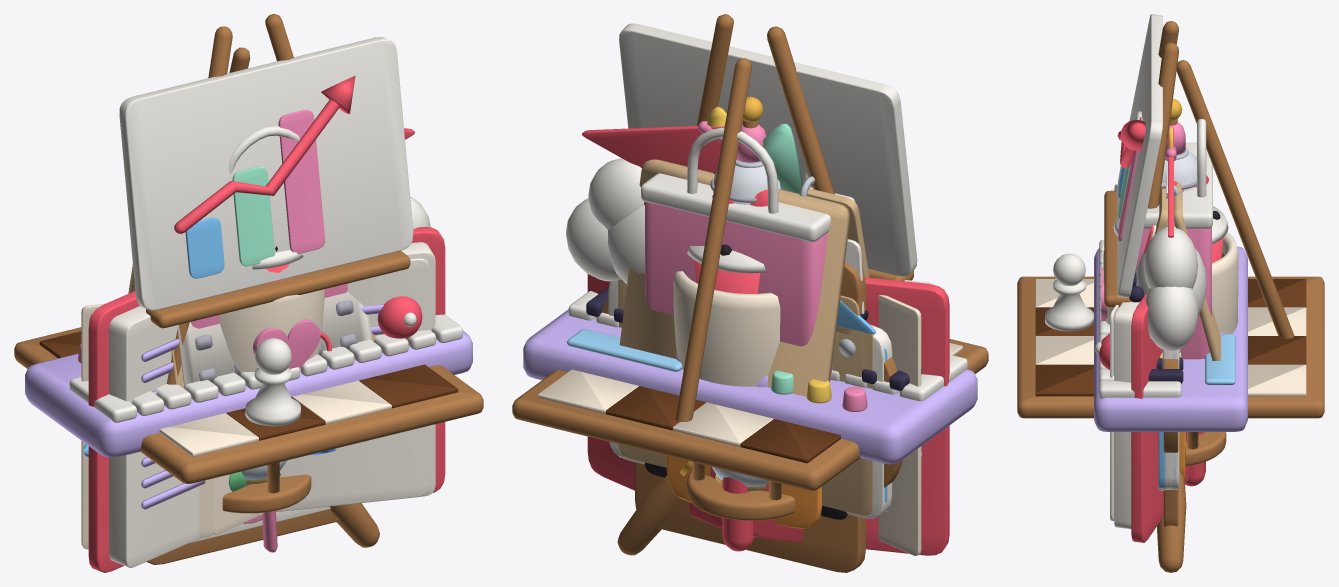
Rendered from props_extra.glb.
3 renders of one model, left to right at view 1: azimuth 30°, elevation 25°; view 2: azimuth 150°, elevation 25°; view 3: azimuth 270°, elevation 25°, orthographic. The views are drawn at different scales.
Parts seen in each view (by area): view 1: easel_board, book_pages0, synth_body, book_page.001, chessboard_frame, easel_ledge, book_cover0, easel_bar2, calendar_page, mug_coffee_cup, easel_bar1, easel_arrow (+26 smaller); view 2: easel_board, synth_body, shopping_bag_bag, chessboard_frame, calendar_back, book_cover0, mug_coffee_cup, notepad_board, easel_legb, map_panel0, shopping_bag_cuff, folder_back (+27 smaller); view 3: synth_body, chessboard_frame, easel_board, book_cover2, easel_legb, book_pages2, thought_puff2, thought_puff4, mug_coffee_cup, chessboard_sq30, chessboard_sq33, shopping_bag_bag (+30 smaller).
Part boxes in pixels (box(x1,y1,x2,y2)): easel_board: box(119, 37, 413, 310); book_pages0: box(109, 306, 200, 567); synth_body: box(25, 330, 472, 457); book_page.001: box(276, 258, 429, 511); chessboard_frame: box(14, 327, 483, 483); easel_ledge: box(146, 250, 410, 328); book_cover0: box(88, 291, 139, 572); easel_bar2: box(278, 109, 324, 253); calendar_page: box(177, 291, 372, 389); mug_coffee_cup: box(219, 289, 324, 373); easel_bar1: box(232, 166, 274, 266); easel_arrow: box(174, 99, 339, 233); easel_board: box(619, 23, 917, 276); synth_body: box(523, 309, 977, 464); shopping_bag_bag: box(645, 202, 832, 380); chessboard_frame: box(512, 339, 988, 490); calendar_back: box(619, 159, 849, 396); book_cover0: box(753, 277, 949, 555); mug_coffee_cup: box(673, 271, 780, 386); notepad_board: box(635, 263, 865, 572); easel_legb: box(675, 58, 751, 421); map_panel0: box(878, 295, 921, 555); shopping_bag_cuff: box(641, 173, 854, 241); folder_back: box(618, 279, 875, 515); synth_body: box(1094, 246, 1247, 431); chessboard_frame: box(1017, 276, 1324, 418); easel_board: box(1117, 14, 1162, 297); book_cover2: box(1131, 293, 1190, 542); easel_legb: box(1176, 60, 1294, 338); book_pages2: box(1114, 302, 1139, 528); thought_puff2: box(1145, 286, 1198, 350); thought_puff4: box(1143, 227, 1198, 288); mug_coffee_cup: box(1103, 232, 1238, 334); chessboard_sq30: box(1035, 364, 1093, 396); chessboard_sq33: box(1248, 364, 1306, 396); shopping_bag_bag: box(1135, 227, 1211, 359).
Size of the model in its own units: 0.37 by 0.5259 by 0.3.
